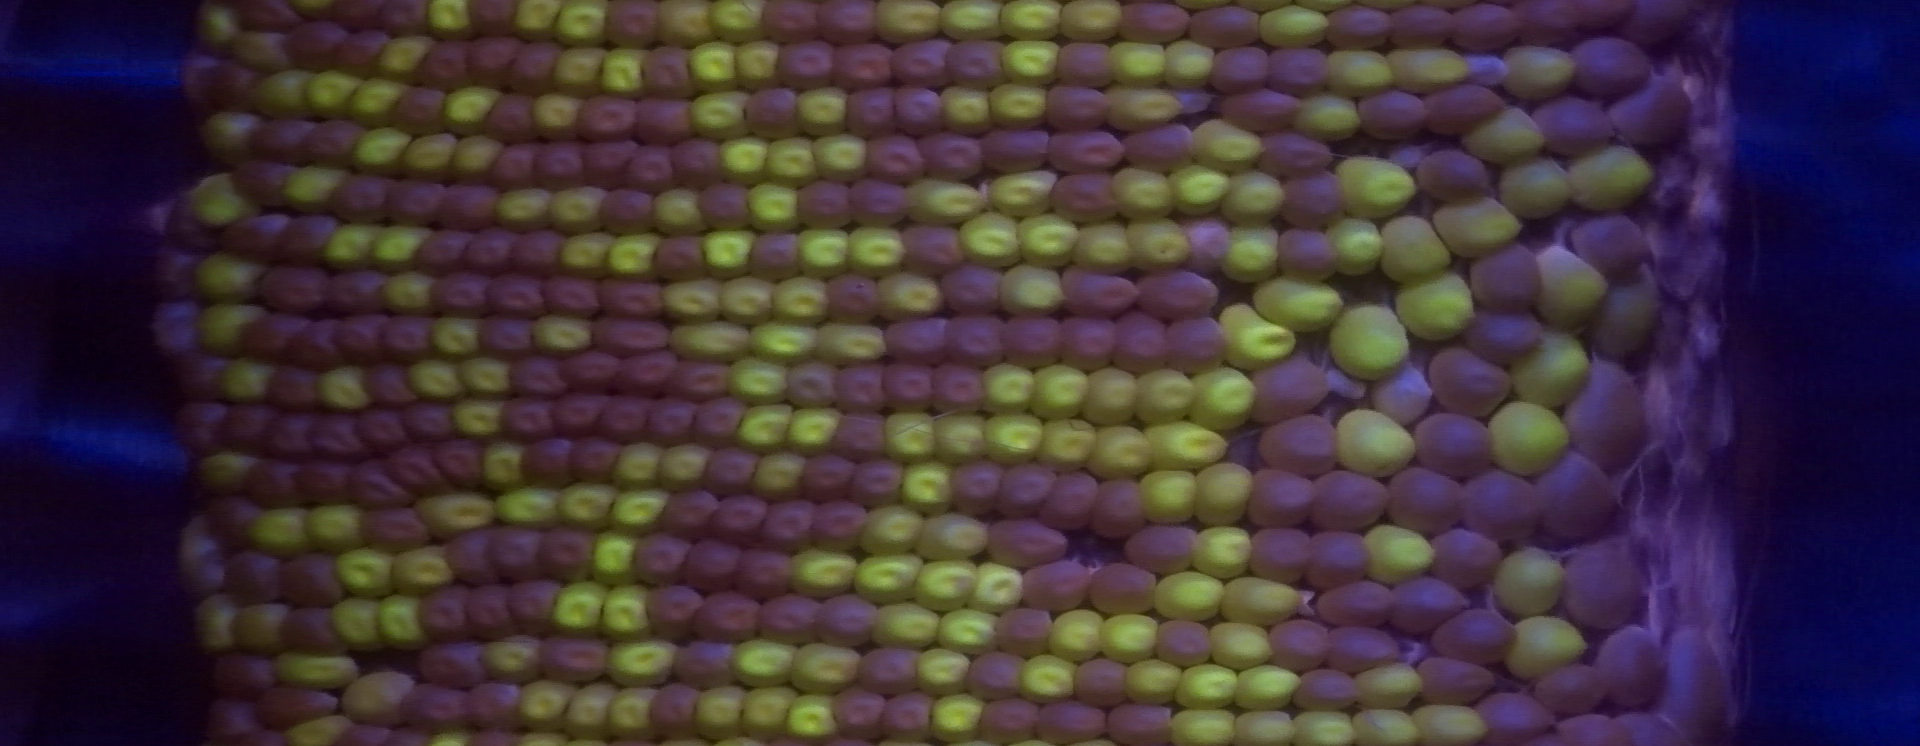fluorescent: (1531, 244, 1610, 330), (1490, 396, 1571, 477), (1507, 330, 1589, 405), (1329, 306, 1409, 380), (1333, 408, 1418, 477), (1562, 148, 1654, 209), (1429, 198, 1523, 256), (1392, 274, 1477, 338), (1500, 617, 1589, 677), (1490, 548, 1567, 616), (1251, 276, 1344, 332), (1220, 304, 1298, 369), (1337, 154, 1411, 220), (1380, 216, 1451, 283), (1498, 44, 1577, 99), (1460, 114, 1545, 164), (1359, 522, 1430, 582), (1499, 158, 1571, 216), (1189, 364, 1256, 425), (902, 175, 982, 225), (1142, 423, 1231, 468), (1215, 577, 1300, 624), (1384, 48, 1466, 96), (1187, 121, 1264, 171), (342, 670, 411, 723), (789, 643, 860, 695), (1086, 423, 1152, 478), (1193, 462, 1253, 522), (413, 492, 493, 537), (193, 254, 261, 306), (1221, 220, 1281, 279), (851, 551, 920, 603), (1109, 167, 1174, 220), (1139, 468, 1196, 528), (1189, 523, 1251, 578), (1220, 168, 1282, 222), (997, 265, 1059, 318), (789, 550, 861, 597), (1153, 572, 1222, 621), (301, 502, 362, 556), (1297, 92, 1360, 143), (989, 168, 1058, 216), (1106, 89, 1179, 134), (1354, 661, 1420, 710), (1258, 4, 1326, 50), (1080, 366, 1136, 423), (882, 405, 936, 464), (1047, 608, 1106, 661), (606, 638, 676, 684), (956, 216, 1018, 267), (193, 1, 250, 56), (1331, 219, 1385, 277), (733, 398, 793, 450), (388, 546, 452, 594), (189, 174, 245, 228), (193, 301, 251, 354), (986, 412, 1044, 463), (444, 87, 504, 137), (733, 638, 793, 688), (1016, 217, 1078, 266), (746, 447, 807, 496), (811, 323, 887, 363), (873, 604, 940, 648), (1413, 703, 1487, 744), (846, 224, 902, 277), (1327, 47, 1391, 93), (257, 64, 309, 121), (365, 220, 425, 269), (1231, 666, 1299, 709), (1130, 220, 1191, 268), (879, 273, 940, 321), (333, 549, 394, 597), (277, 652, 356, 688), (1166, 164, 1228, 211), (553, 479, 616, 526), (322, 219, 377, 272), (551, 579, 604, 635), (598, 584, 650, 639), (1136, 371, 1193, 423), (606, 685, 658, 741), (396, 131, 459, 176), (771, 274, 830, 323), (671, 322, 749, 359), (913, 514, 984, 555), (1104, 42, 1164, 89), (1038, 416, 1095, 467), (250, 508, 307, 557), (516, 677, 573, 726), (1073, 224, 1131, 272), (1029, 366, 1087, 414), (861, 507, 924, 551), (190, 598, 238, 657), (329, 593, 377, 652), (934, 608, 999, 650), (478, 635, 542, 677), (607, 485, 669, 530), (692, 687, 744, 740), (876, 1, 942, 43), (692, 91, 749, 138), (591, 527, 639, 584), (350, 127, 409, 174), (742, 184, 801, 230), (1210, 624, 1273, 666), (655, 1, 715, 47), (729, 38, 781, 89), (934, 408, 986, 461), (1020, 654, 1074, 704), (725, 360, 786, 404), (918, 559, 973, 608), (966, 562, 1022, 610), (1000, 40, 1059, 86), (981, 363, 1033, 413), (376, 593, 426, 646), (740, 687, 790, 740), (343, 80, 404, 122), (699, 227, 756, 273), (283, 162, 340, 207), (1101, 617, 1160, 661), (595, 47, 648, 96), (782, 693, 838, 740), (493, 486, 561, 524), (551, 185, 607, 230), (1174, 665, 1236, 707), (918, 647, 969, 697), (687, 42, 738, 91), (1122, 659, 1180, 702), (1169, 708, 1238, 745), (763, 136, 816, 184), (720, 276, 773, 323), (899, 465, 951, 513), (203, 110, 257, 157), (1058, 1, 1122, 40), (602, 232, 659, 276), (492, 187, 550, 230), (553, 44, 604, 93), (658, 443, 709, 491), (566, 685, 613, 736), (931, 695, 982, 742), (798, 225, 851, 272), (610, 441, 662, 488), (661, 281, 724, 320), (747, 322, 816, 358), (939, 86, 989, 134), (321, 361, 369, 412), (789, 405, 839, 453), (407, 358, 464, 399), (718, 136, 769, 183), (989, 85, 1044, 127), (651, 191, 707, 234), (558, 230, 613, 273), (373, 38, 433, 77), (531, 314, 591, 353), (534, 92, 580, 142), (1356, 707, 1418, 744), (1164, 40, 1213, 87), (816, 131, 864, 178), (444, 134, 504, 171), (378, 273, 433, 314), (798, 89, 849, 134), (709, 1, 765, 40), (306, 75, 358, 118), (940, 1, 1004, 36), (429, 316, 482, 356), (239, 27, 287, 72), (1238, 707, 1296, 744), (482, 441, 525, 490), (1000, 2, 1060, 37), (1294, 710, 1356, 744), (197, 454, 253, 490), (456, 355, 509, 392), (558, 5, 605, 47), (220, 361, 271, 399), (453, 399, 504, 435), (236, 605, 280, 646), (429, 1, 473, 39), (514, 2, 561, 38)
nonfluorescent: (1597, 269, 1668, 370), (1570, 363, 1641, 461), (1567, 541, 1646, 630), (1540, 458, 1618, 541), (1430, 345, 1513, 416), (1599, 624, 1665, 707), (1511, 1, 1629, 48), (1387, 465, 1464, 534), (1613, 85, 1689, 151), (1464, 475, 1540, 541), (1570, 211, 1646, 274), (1251, 367, 1332, 426), (1570, 40, 1652, 98), (1469, 247, 1542, 310), (1538, 91, 1611, 152), (1428, 528, 1502, 587), (1389, 579, 1466, 636), (1413, 415, 1487, 473), (1428, 614, 1513, 663), (1425, 82, 1498, 138), (1316, 477, 1389, 532), (1251, 472, 1318, 528), (986, 518, 1070, 562), (207, 488, 263, 552), (193, 58, 267, 107), (1262, 424, 1337, 472), (1418, 659, 1498, 703), (1474, 692, 1554, 736), (647, 581, 705, 639), (1311, 532, 1373, 588), (1418, 151, 1491, 197), (260, 265, 328, 314), (1629, 1, 1693, 53), (1464, 314, 1539, 358), (1357, 89, 1427, 136), (1038, 473, 1100, 526), (1021, 559, 1089, 606), (1141, 273, 1218, 315), (1330, 626, 1398, 673), (1119, 529, 1198, 570), (1258, 131, 1333, 173), (1278, 171, 1338, 224), (263, 363, 324, 414), (591, 316, 669, 356), (1321, 584, 1393, 627), (1090, 478, 1142, 537), (939, 268, 1002, 317), (698, 592, 762, 639), (1253, 526, 1310, 578), (1046, 130, 1122, 169), (280, 212, 337, 265), (208, 693, 264, 746), (1063, 271, 1134, 312), (264, 688, 339, 728), (1059, 315, 1120, 363), (541, 526, 595, 579), (178, 350, 230, 405), (1271, 617, 1327, 669), (879, 688, 936, 740), (860, 134, 923, 179), (574, 96, 633, 145), (882, 360, 939, 409), (653, 681, 702, 739), (241, 315, 309, 356), (883, 317, 948, 360), (1116, 315, 1168, 367), (1091, 563, 1153, 608), (1120, 125, 1190, 164), (386, 443, 444, 490), (599, 277, 666, 317), (1456, 9, 1516, 54), (549, 636, 609, 681), (173, 398, 227, 448), (1269, 49, 1330, 93), (1044, 87, 1102, 134), (327, 272, 386, 317), (980, 699, 1040, 744), (1554, 708, 1633, 741), (860, 649, 921, 692), (923, 135, 981, 180), (1538, 671, 1607, 709), (1052, 171, 1111, 216), (661, 492, 720, 537), (403, 687, 469, 726), (437, 435, 489, 485), (493, 526, 542, 578), (225, 216, 289, 256), (996, 462, 1049, 510), (1189, 9, 1259, 45), (905, 227, 960, 273), (410, 40, 467, 86), (329, 174, 386, 219), (1327, 4, 1389, 45), (1106, 703, 1171, 742), (1037, 703, 1108, 739), (1211, 49, 1270, 92), (831, 693, 884, 741), (467, 34, 520, 81), (620, 353, 680, 394), (422, 642, 486, 681), (943, 320, 1000, 363), (507, 353, 564, 396), (1070, 661, 1128, 704), (984, 129, 1049, 167), (509, 43, 560, 92), (364, 355, 413, 405), (951, 457, 1000, 507), (233, 550, 283, 599), (643, 47, 691, 98), (691, 541, 738, 593), (949, 40, 1002, 87), (670, 138, 722, 185), (700, 443, 753, 490), (972, 652, 1025, 698), (730, 548, 784, 593), (1120, 4, 1191, 38), (360, 508, 429, 544), (820, 1, 876, 45), (482, 312, 538, 356), (465, 684, 520, 728), (1056, 43, 1112, 86), (634, 96, 691, 138), (345, 457, 402, 500), (797, 456, 853, 499), (421, 589, 470, 638), (508, 581, 557, 630), (830, 274, 880, 322), (520, 436, 573, 481), (764, 500, 817, 545), (444, 540, 497, 586), (778, 42, 833, 85), (624, 142, 672, 191), (467, 586, 516, 633), (381, 315, 431, 361), (1168, 318, 1220, 364), (671, 354, 722, 399), (289, 22, 342, 66), (894, 45, 949, 87), (305, 119, 360, 160), (1221, 93, 1296, 124), (336, 315, 387, 359), (220, 403, 264, 454), (639, 538, 692, 581), (436, 273, 493, 312), (442, 185, 497, 225), (462, 229, 517, 269), (765, 598, 820, 638), (517, 228, 564, 274), (847, 458, 898, 502), (287, 559, 337, 603), (394, 87, 446, 130), (257, 120, 309, 163), (290, 318, 342, 361), (716, 496, 769, 538), (540, 274, 598, 312), (824, 601, 879, 641), (1296, 671, 1351, 710), (680, 644, 735, 684), (846, 86, 896, 129), (855, 183, 906, 224), (241, 160, 287, 207), (1281, 230, 1329, 274), (840, 409, 883, 458), (1007, 315, 1057, 356), (800, 181, 851, 222), (418, 230, 470, 269), (220, 652, 273, 691), (574, 434, 620, 479), (817, 503, 863, 548), (607, 2, 656, 44), (601, 186, 650, 228), (1184, 222, 1226, 271), (487, 274, 544, 310), (338, 1, 394, 37), (838, 48, 890, 86), (489, 96, 536, 137), (896, 86, 937, 135), (504, 398, 553, 439), (838, 367, 887, 408), (1389, 10, 1450, 42), (704, 183, 748, 227), (1620, 710, 1679, 744), (762, 2, 818, 37), (936, 365, 983, 405), (568, 353, 620, 390), (287, 601, 328, 647), (598, 396, 644, 436), (340, 33, 384, 75), (391, 179, 435, 220), (305, 459, 350, 500), (468, 1, 520, 36), (313, 413, 355, 456), (256, 456, 298, 499), (756, 233, 800, 273), (659, 236, 702, 277), (407, 401, 449, 441), (538, 148, 583, 186), (365, 407, 400, 454), (491, 145, 534, 184), (587, 142, 629, 181), (700, 399, 740, 441), (381, 1, 425, 37), (557, 394, 602, 429), (269, 416, 305, 459), (653, 402, 693, 435)
